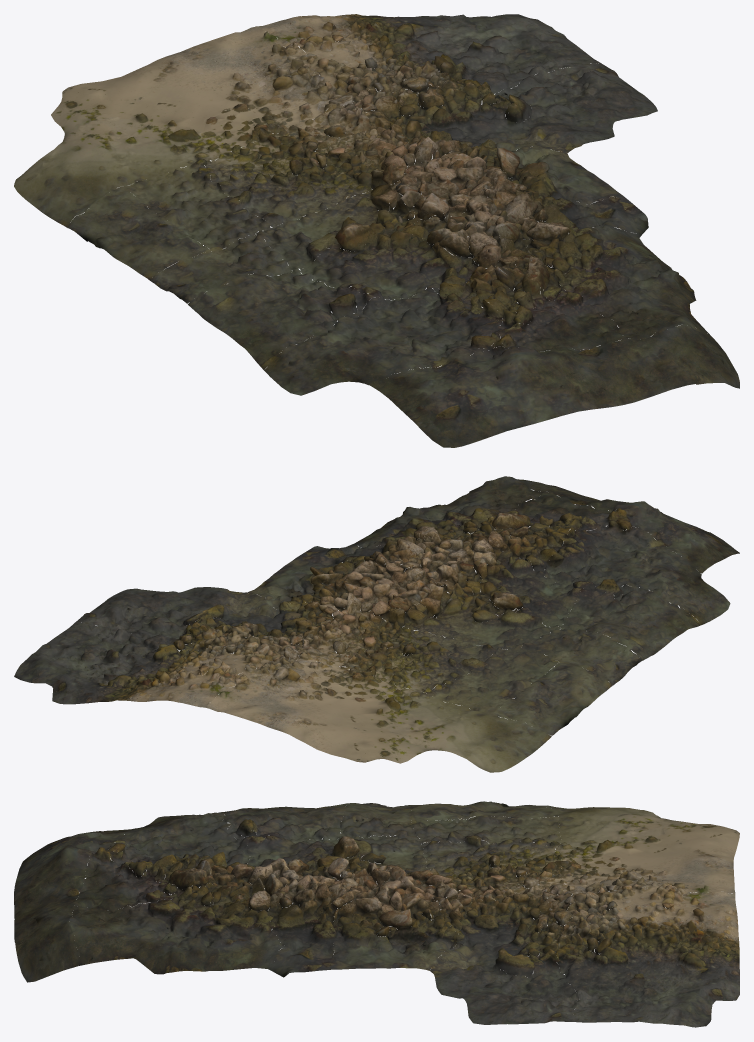
Rendered from coast_rocks_03.gltf.
3 renders of one model, top to bottom at view 1: azimuth 30°, elevation 25°; view 2: azimuth 150°, elevation 25°; view 3: azimuth 270°, elevation 25°, orthographic. The views are drawn at different scales.
Visible parts, largest first — view 1: coast_rocks_03; view 2: coast_rocks_03; view 3: coast_rocks_03.
Part boxes in pixels (<box>): coast_rocks_03: <box>14,14,739,447</box>; coast_rocks_03: <box>14,476,739,772</box>; coast_rocks_03: <box>14,801,739,1027</box>.
Bounding box in the file's own units: 21.12 × 3.2 × 28.27.
1 material, 1 textured.
